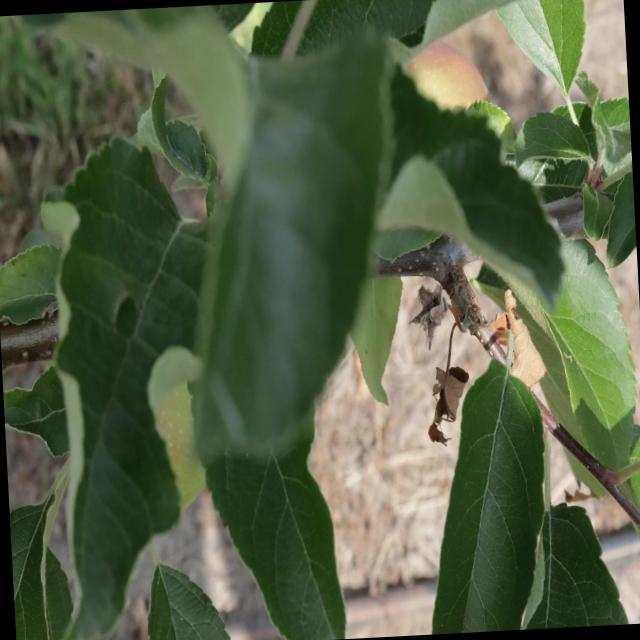-FireBlight-: (426, 282, 472, 438)
